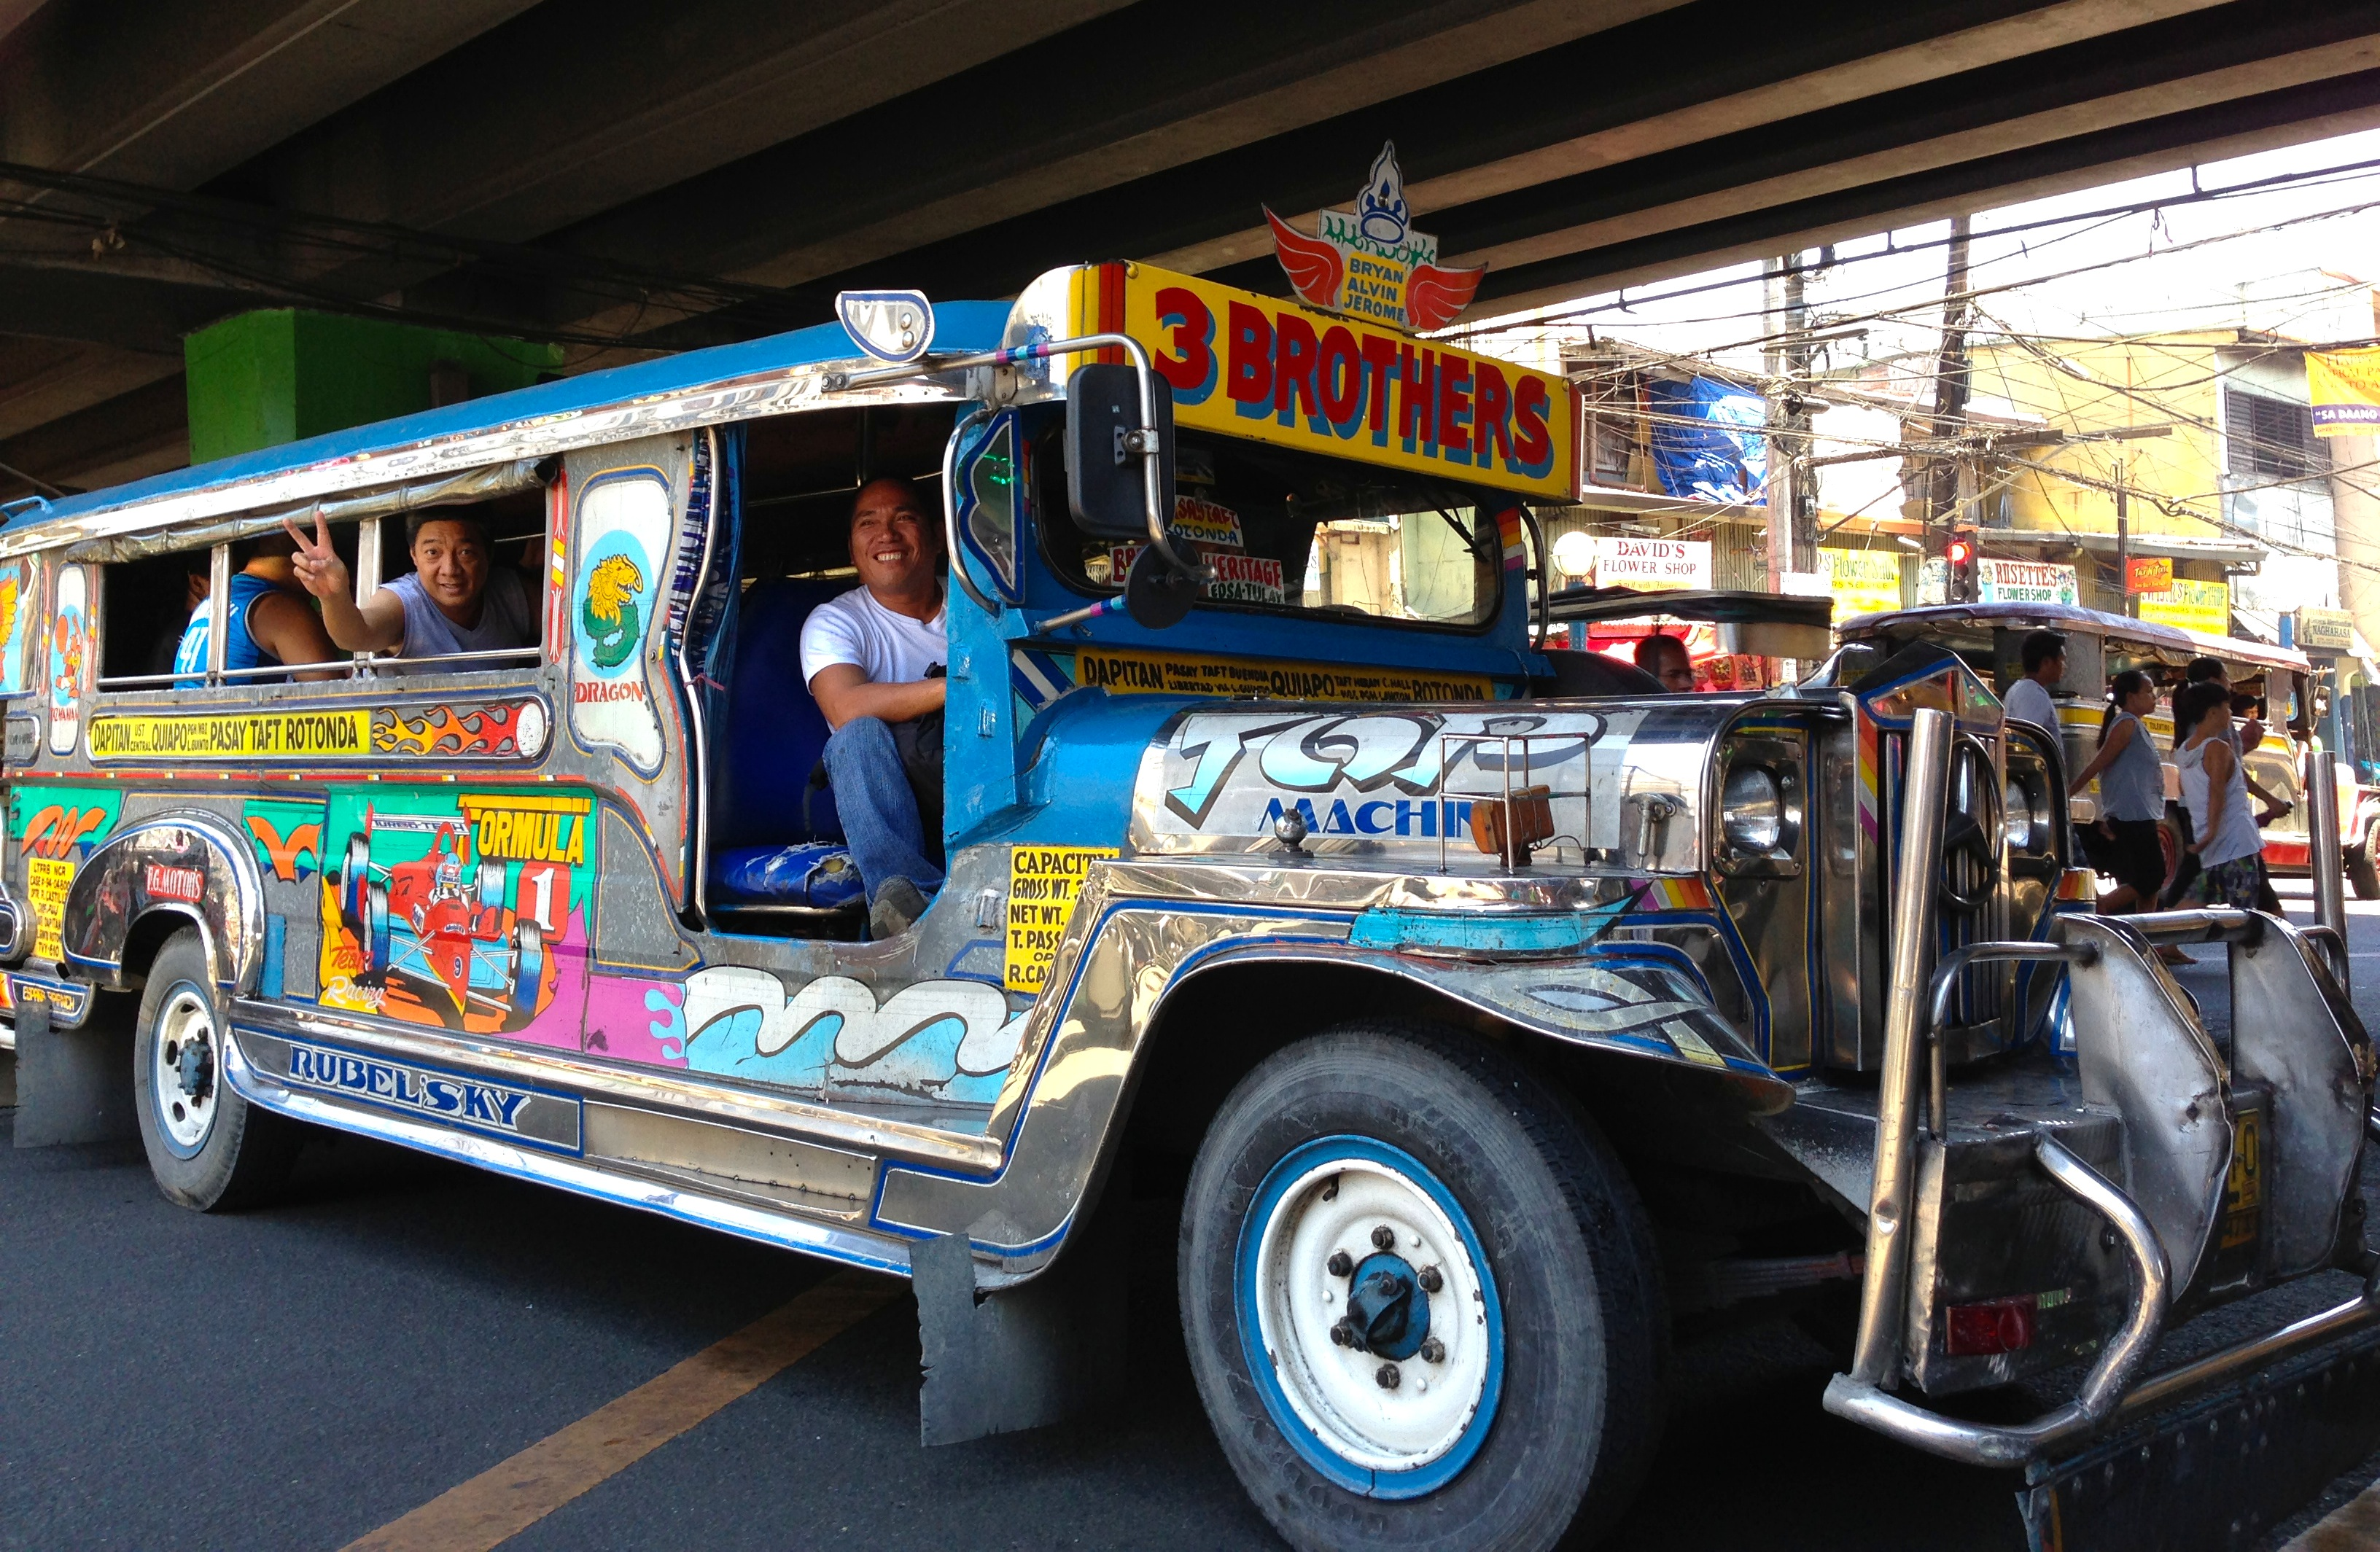Vehicle: (0, 134, 2340, 1552)
